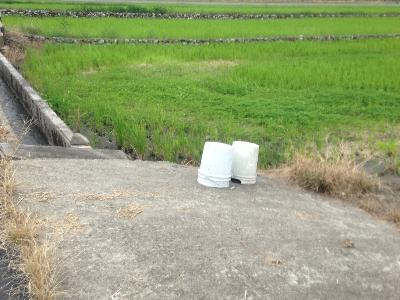bucket: (196, 140, 235, 188), (231, 139, 260, 187)
